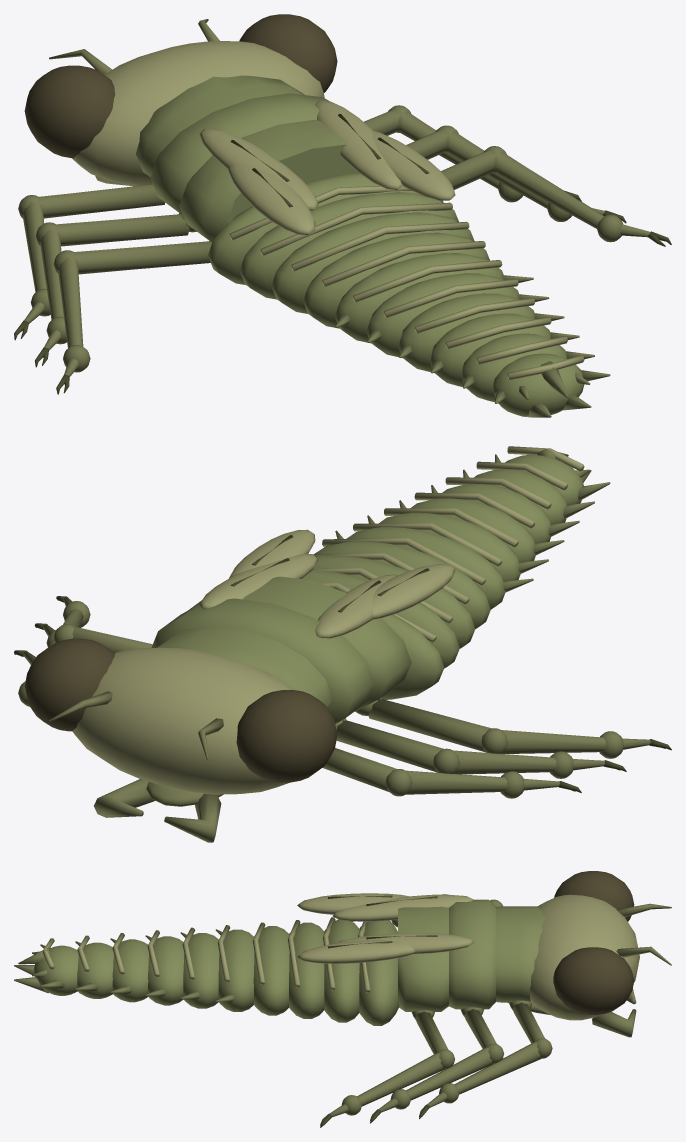
Rendered from DragonflyNymph.fbx.
3 views of the same model, one above another, from view 1: azimuth 30°, elevation 25°; view 2: azimuth 150°, elevation 25°; view 3: azimuth 270°, elevation 25° (orthographic). The views are drawn at different scales.
Visible parts, largest first — view 1: DragonflyNymph_Olive_armor, DragonflyNymph_Segment_rims, DragonflyNymph_Jointed_limbs, DragonflyNymph_Compound_eyes, DragonflyNymph_Sutures; view 2: DragonflyNymph_Olive_armor, DragonflyNymph_Segment_rims, DragonflyNymph_Jointed_limbs, DragonflyNymph_Compound_eyes, DragonflyNymph_Sutures; view 3: DragonflyNymph_Olive_armor, DragonflyNymph_Segment_rims, DragonflyNymph_Jointed_limbs, DragonflyNymph_Compound_eyes, DragonflyNymph_Sutures.
Boxes of the visible parts, x1,y1,x2,y2 form: DragonflyNymph_Olive_armor: [135, 75, 584, 417]; DragonflyNymph_Segment_rims: [72, 41, 584, 380]; DragonflyNymph_Jointed_limbs: [18, 19, 650, 417]; DragonflyNymph_Compound_eyes: [24, 14, 337, 158]; DragonflyNymph_Sutures: [14, 114, 671, 394]; DragonflyNymph_Olive_armor: [151, 454, 583, 723]; DragonflyNymph_Segment_rims: [72, 446, 584, 794]; DragonflyNymph_Jointed_limbs: [18, 448, 650, 842]; DragonflyNymph_Compound_eyes: [24, 638, 337, 782]; DragonflyNymph_Sutures: [14, 535, 671, 792]; DragonflyNymph_Olive_armor: [33, 899, 545, 1025]; DragonflyNymph_Segment_rims: [42, 893, 639, 1020]; DragonflyNymph_Jointed_limbs: [14, 894, 671, 1117]; DragonflyNymph_Compound_eyes: [553, 871, 634, 1014]; DragonflyNymph_Sutures: [320, 895, 437, 1127].
Size of the model in its own units: 0.8012 by 0.1785 by 1.
